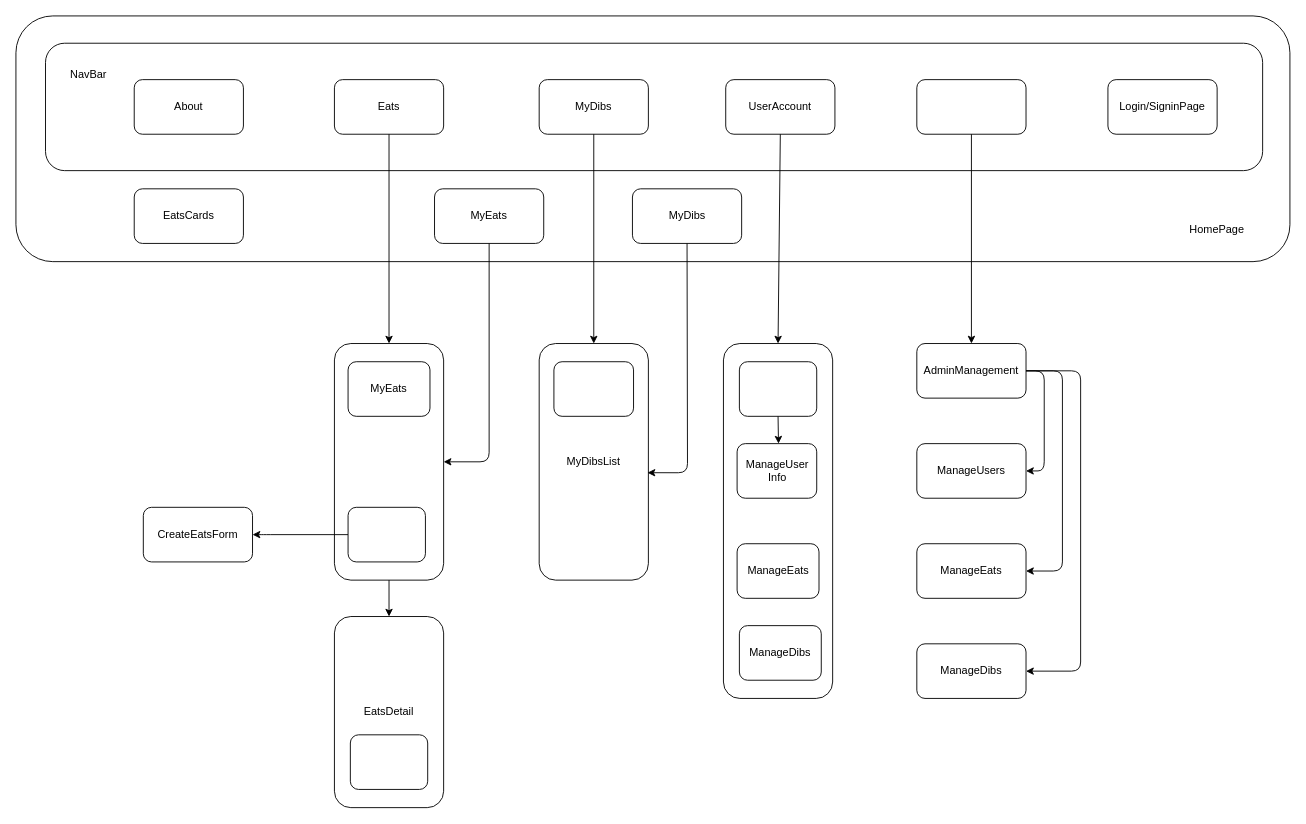
This 1306x824 diagram has some shape labels left out. Here are the shapes that lost their labels. From the top down, the box of each, then its label:
(916, 79, 1026, 134): Admin
(553, 361, 634, 416): DibsHistory
(738, 361, 817, 416): UserInfo
(334, 343, 444, 580): EatsList
(347, 506, 425, 562): CreateEats
(723, 343, 833, 698): UserManagement
(349, 734, 428, 789): DibsButton
